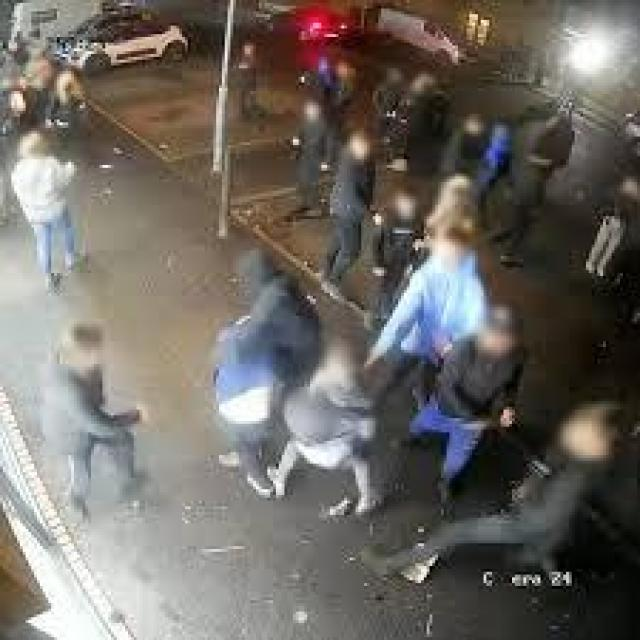fight: (168, 190, 367, 540)
